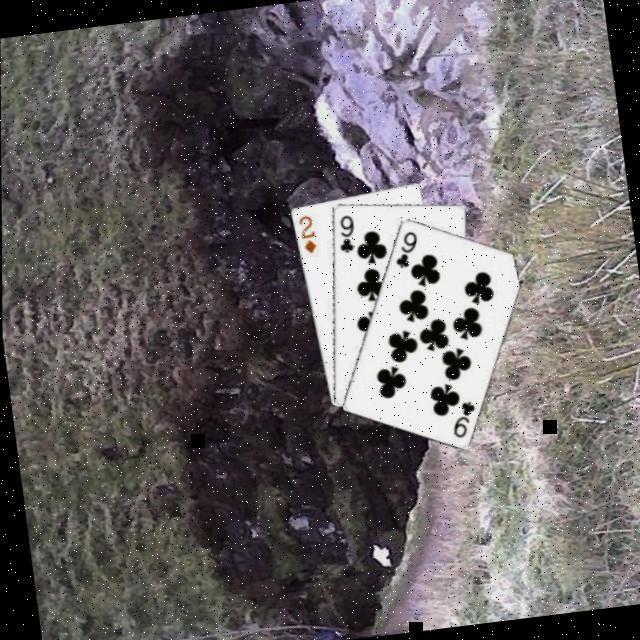2D: (293, 212, 318, 258)
9C: (386, 228, 422, 272), (444, 398, 480, 441), (332, 212, 358, 257)
